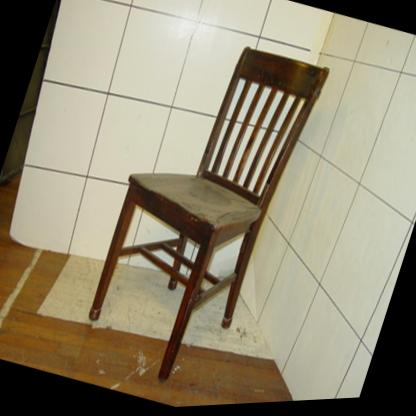Chair: (72, 22, 330, 406)
